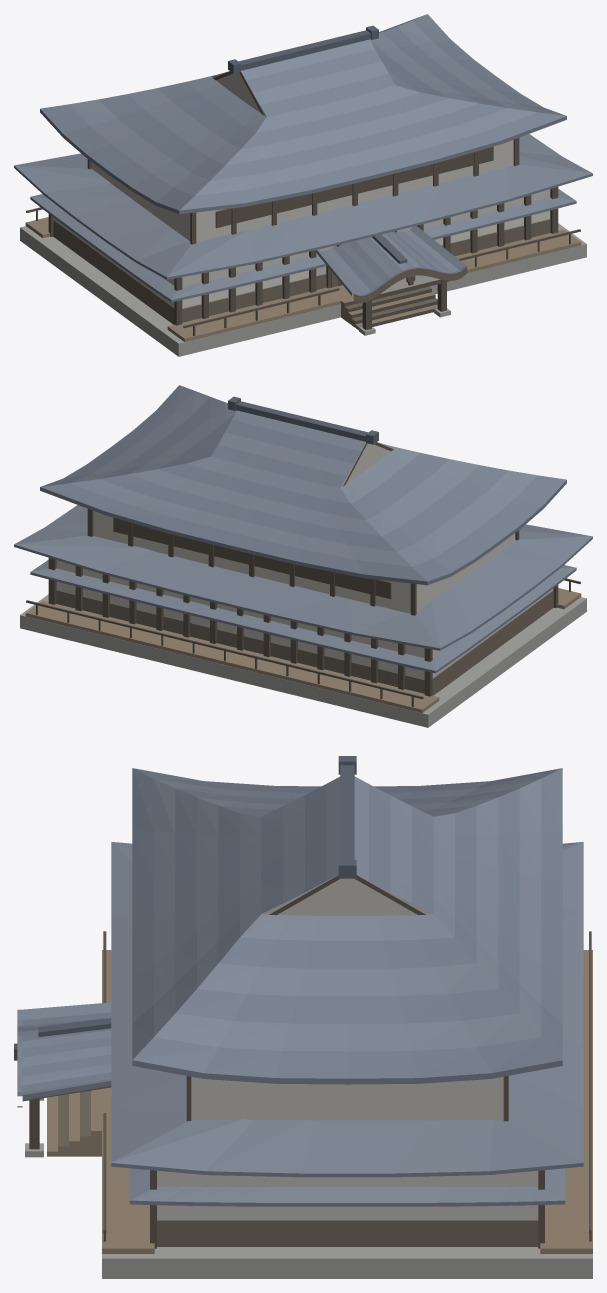
Rendered from hieda_main.glb.
The picture shows the model from 3 angles, top to bottom: view 1: azimuth 30°, elevation 25°; view 2: azimuth 150°, elevation 25°; view 3: azimuth 270°, elevation 25°; orthographic projection. The views are drawn at different scales.
Visible parts, largest first — view 1: hieda_main; view 2: hieda_main; view 3: hieda_main.
Part boxes in pixels (x1=…): hieda_main: x1=14, y1=14, x2=592, y2=356; hieda_main: x1=14, y1=385, x2=592, y2=727; hieda_main: x1=14, y1=756, x2=592, y2=1278.
Bounding box in the file's own units: 28.88 × 13.19 × 22.01.
